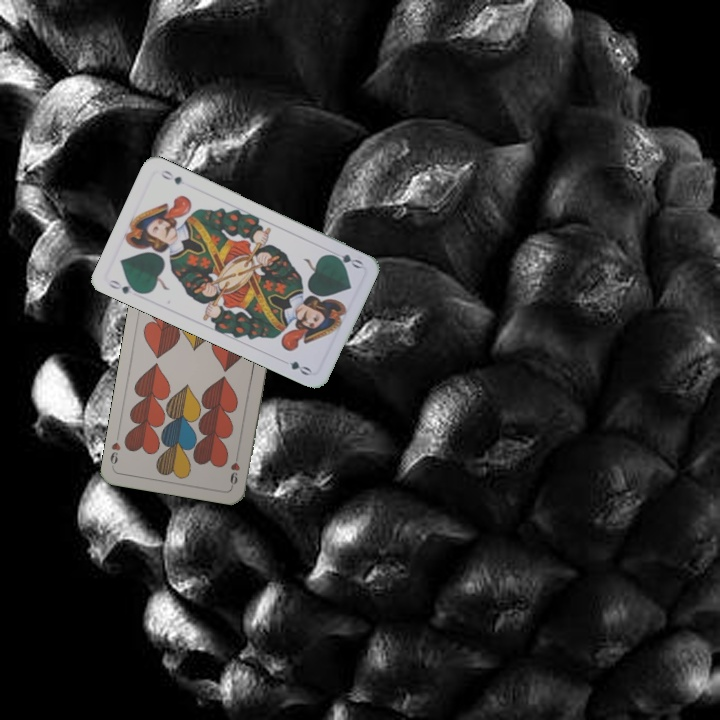GO: (325, 246, 365, 271), (105, 275, 144, 297)
H9: (226, 449, 242, 489)
